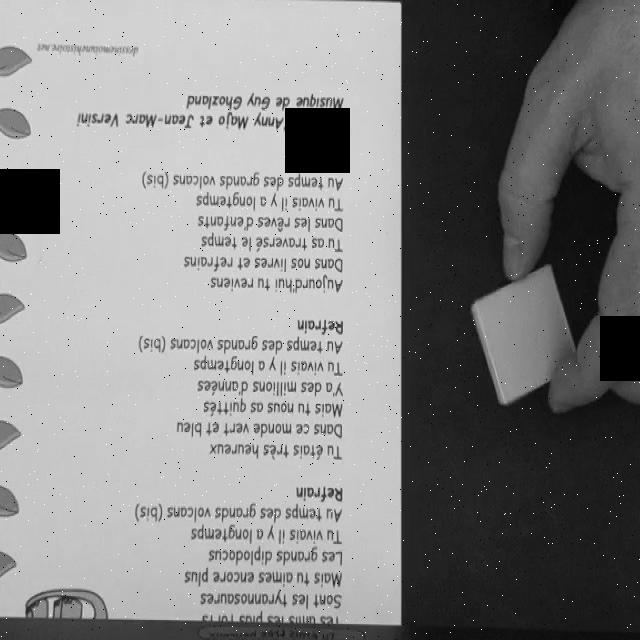square: (470, 264, 582, 406)
